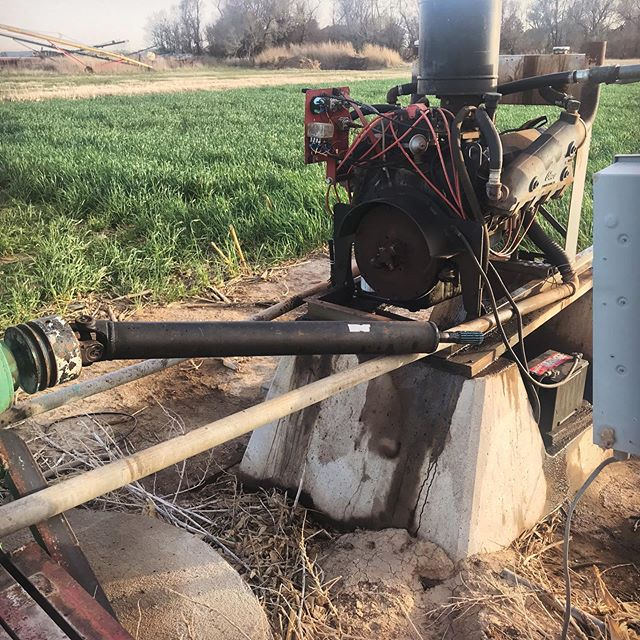grass: (1, 76, 309, 290)
motor: (308, 40, 588, 361)
